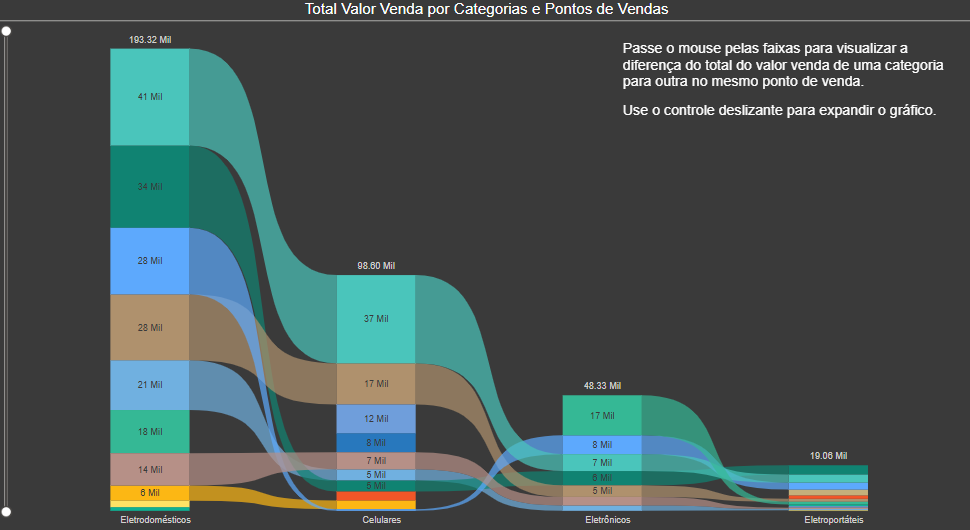

The dashboard page shown, as its layout file describes it:
{"tool":"powerbi","page":{"name":"Faixas de Vendas por Categorias e por Pontos de Vendas","canvas":[1280,720],"ordinal":3},"visuals":[{"type":"ribbonChart","title":"Total Valor Venda por Categorias e Pontos de Vendas","fields":{"Category":["Vendas.Categoria"],"Y":["Sum(Vendas.ValorVenda)"],"Series":["Vendas.Loja"]},"box":[0,10.1,1280.2,698.4],"z":0},{"type":"textbox","box":[813.6,59,433.4,162.7],"z":1000}]}

Visuals, with their boxes in screenshot pixels (x1, y1, x2, y2), scaled from the page's 1280x720 canvas onto the 970x530 screenshot:
"Total Valor Venda por Categorias e Pontos de Vendas" ribbonChart: <box>0,7,969,522</box>
textbox: <box>617,43,945,163</box>
